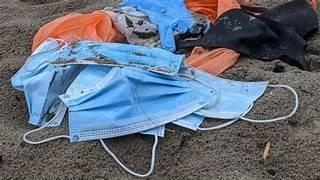Mask: (24, 65, 213, 176), (12, 39, 183, 125), (60, 67, 214, 141), (176, 9, 309, 69), (176, 68, 297, 129), (11, 39, 81, 125), (174, 68, 267, 129), (180, 68, 267, 118), (121, 0, 206, 51), (55, 41, 183, 74), (11, 38, 60, 90), (260, 0, 318, 37), (105, 7, 159, 46), (172, 113, 204, 130)
